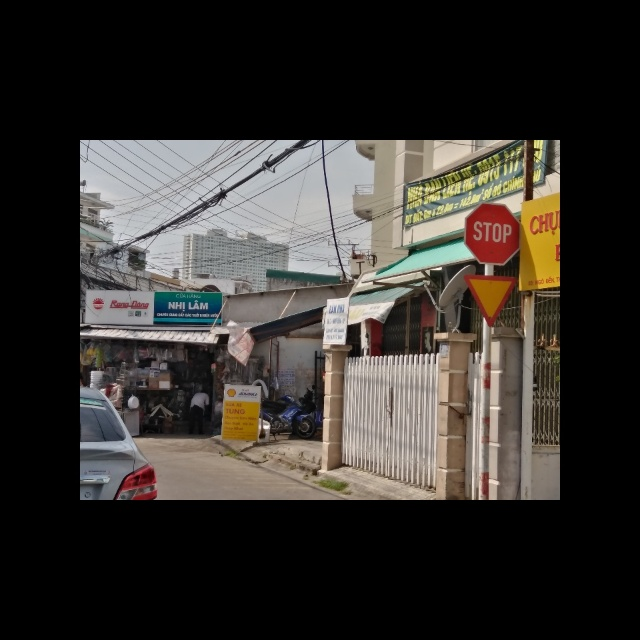Dừng lại: (465, 201, 520, 264)
Giao nhau với đường ưu tiên: (464, 272, 518, 326)
